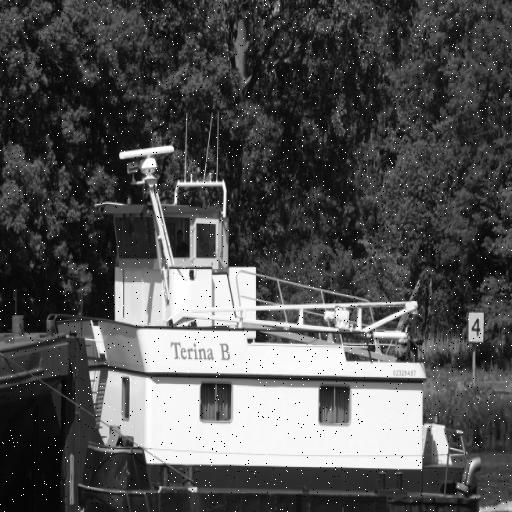tugboat: (7, 141, 490, 512)
